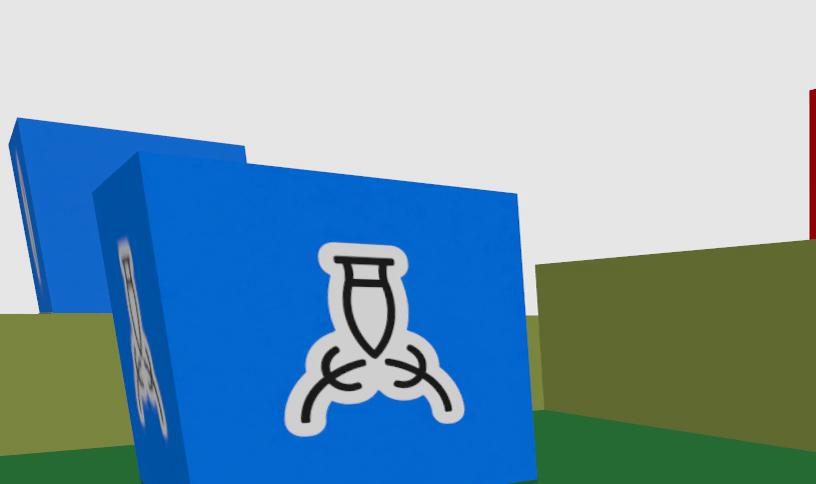KFS_FAKE: (810, 90, 816, 237)
KFS_REAL: (94, 153, 535, 484), (286, 243, 463, 436), (119, 240, 166, 438)
